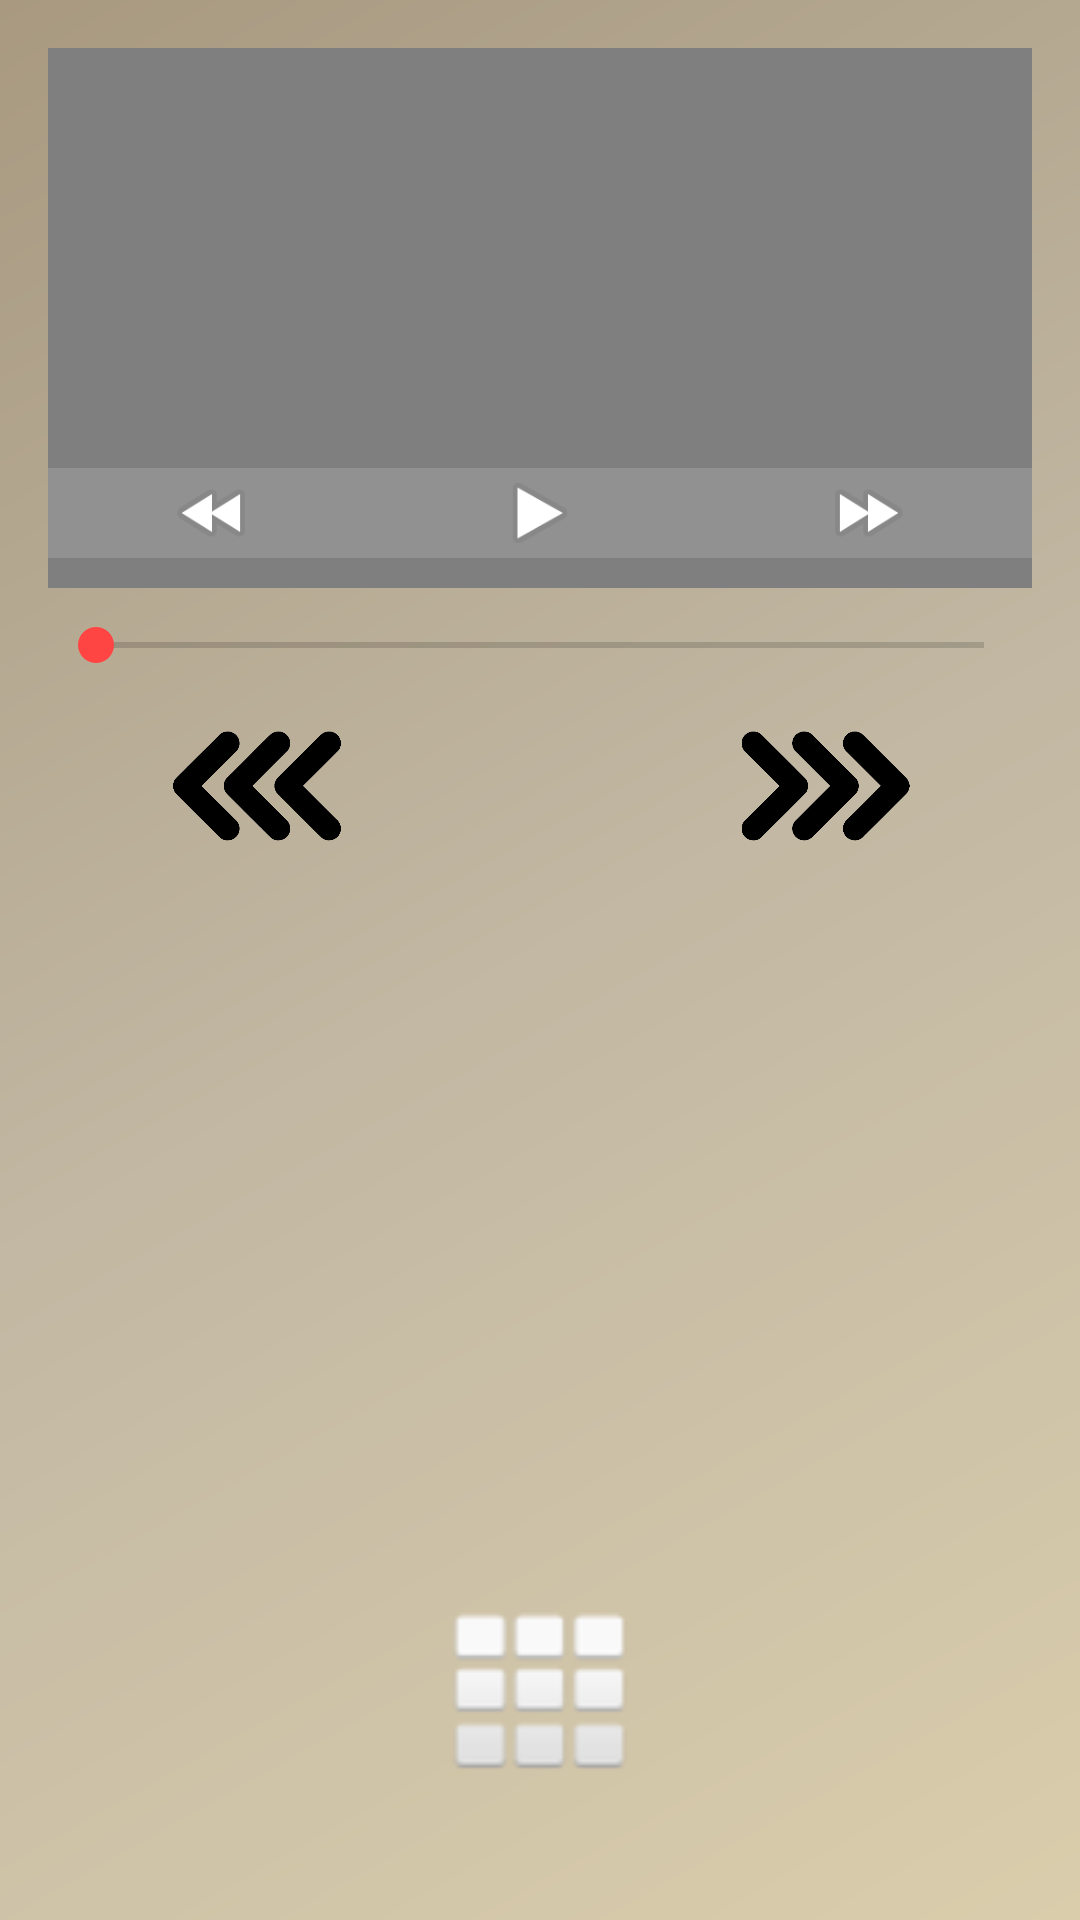

Named icons in this screenshot (1080×1920) and their bounding boxes, (x1, y1, x2, y2):
dialer: (455, 1615, 624, 1768)
next: (742, 731, 910, 841)
play: (517, 487, 563, 539)
previous: (173, 731, 341, 841)
rew: (182, 494, 240, 532)
